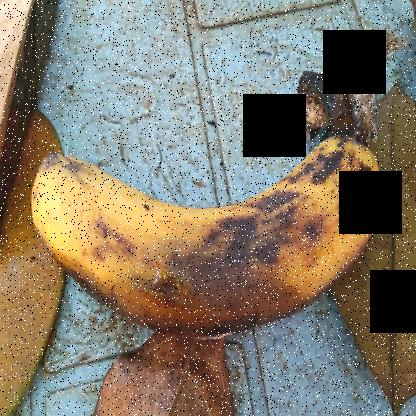rotten: (13, 112, 398, 382)
